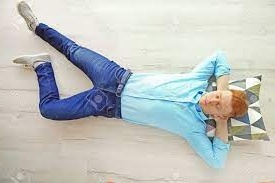fall: (0, 4, 257, 165)
